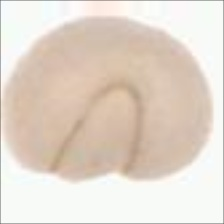L5: (44, 79, 145, 183)
L6: (1, 14, 217, 187)
